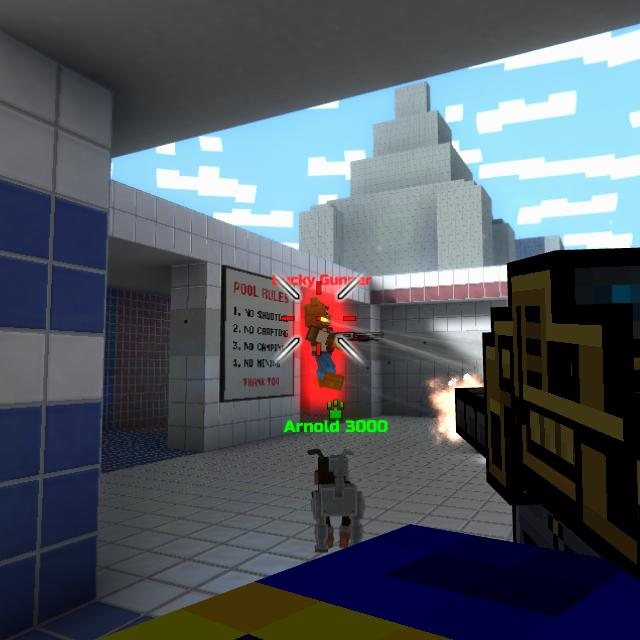Enemy: (304, 299, 347, 389)
